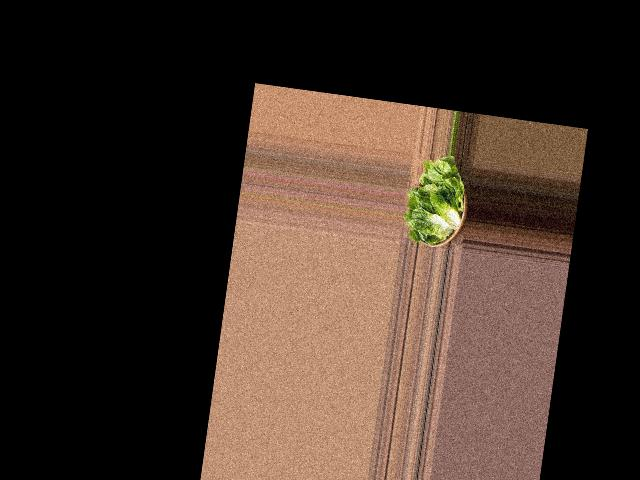lettuce: (402, 152, 473, 254)
